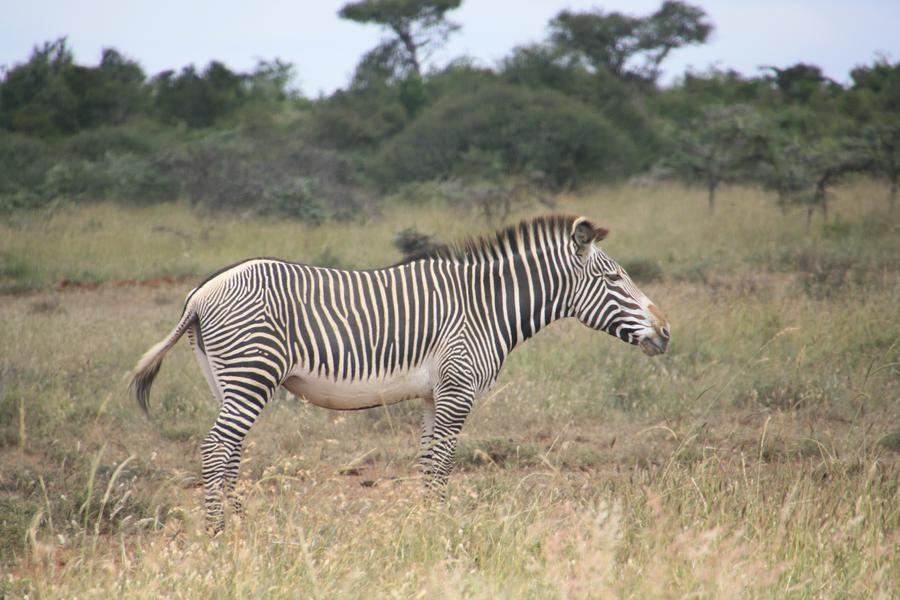zebra_grevys: (185, 258, 500, 386)
